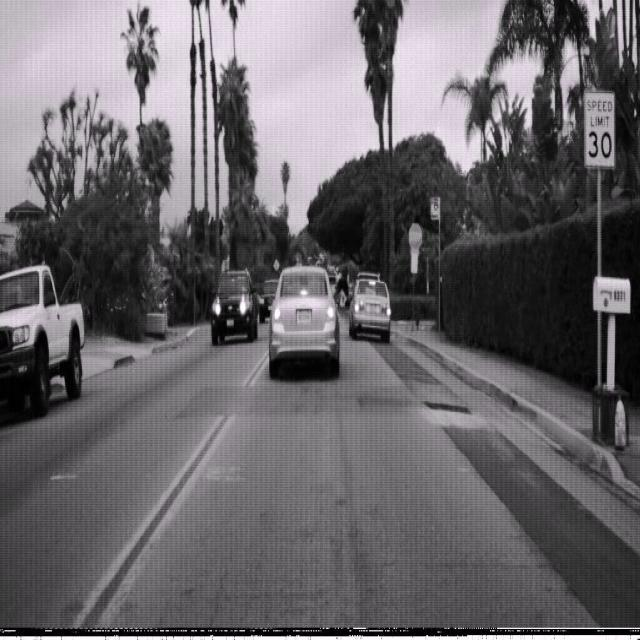speedLimit30: (583, 90, 616, 169)
